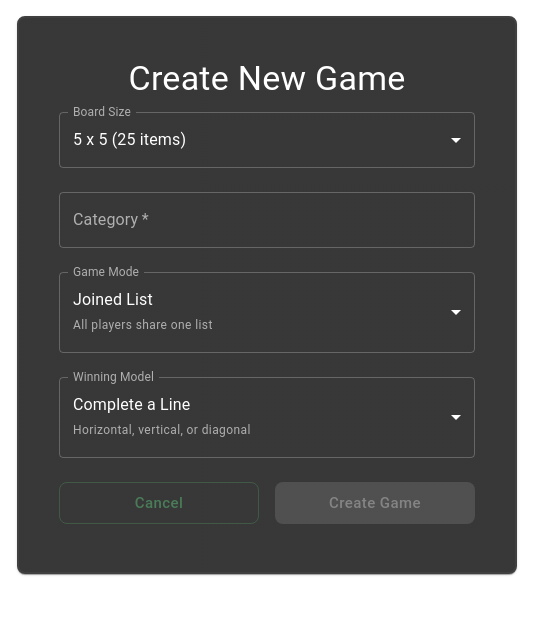
Scenario: GameCreationForm › Form Rendering › shows winning model options
The width and height of the screenshot is (535, 624).
Step 1. Press the mouse on the dropdown named "Winning Model" → (162, 416), box [73,395,251,437]
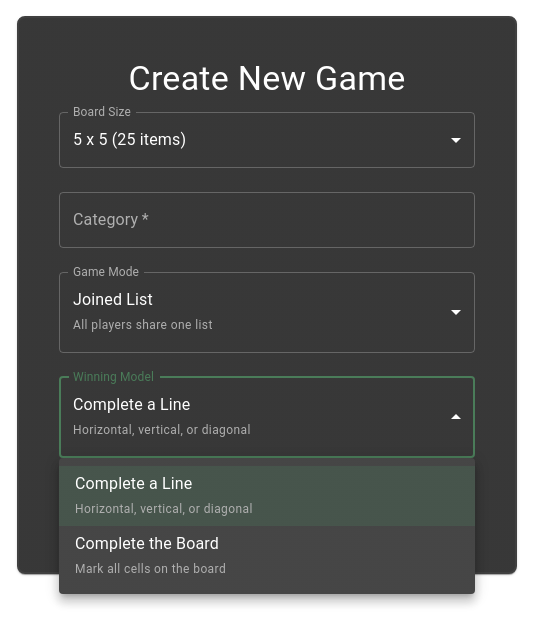
Expected: the text "Complete a Line" is shown 2 times, [73,395,190,414]; [75,474,192,493]
Expected: the text "Complete the Board" is shown once, [75,532,226,556]
